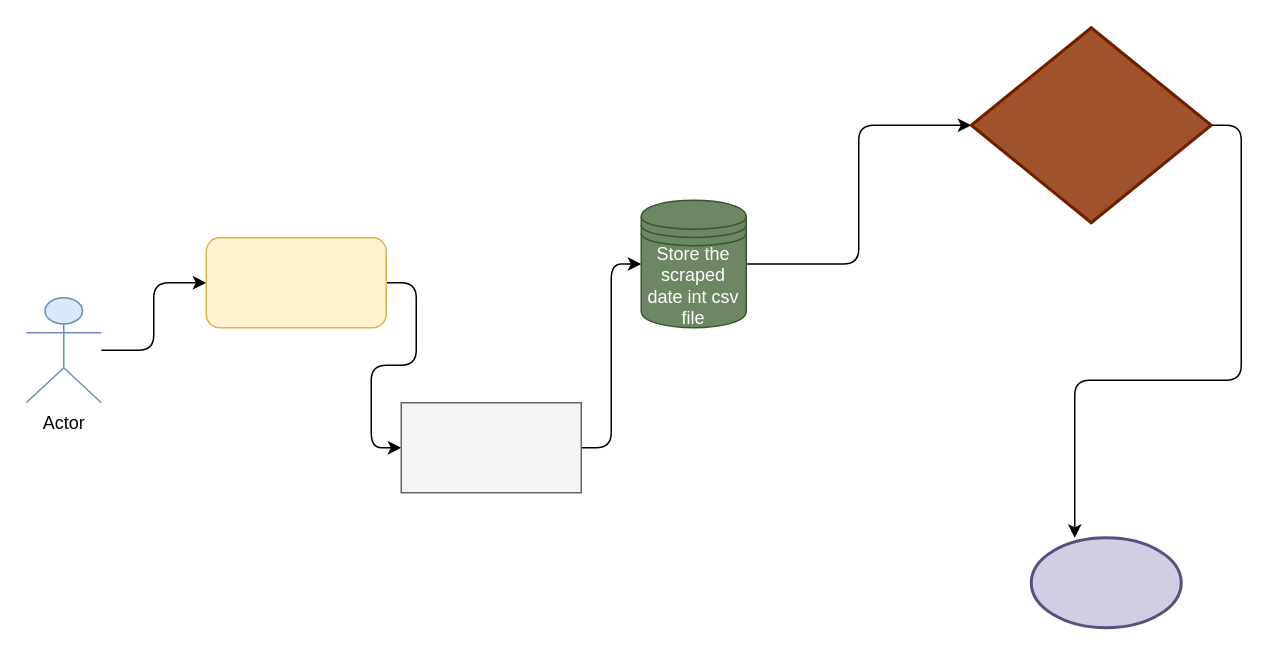
This 1280x654 diagram has some shape labels left out. Here are the shapes that lost their labels. From the top down, the centre of each, then its label:
the point at 295,282: Access E-Commerce Dark Web using Tor browser
the point at 490,447: Scrape the E-commerce Website
